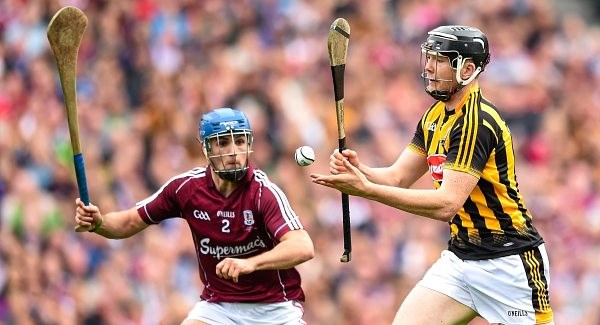hurley: (46, 5, 97, 234), (325, 16, 354, 262)
